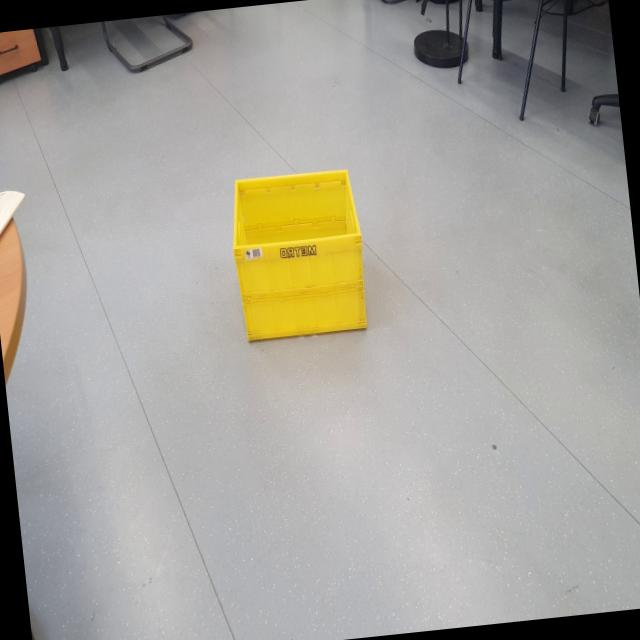box: (215, 152, 380, 363)
